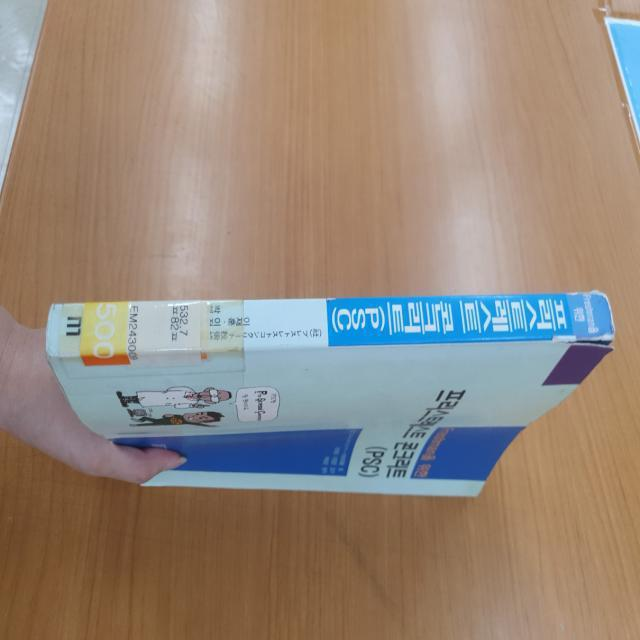Ripped: (552, 324, 622, 356), (565, 286, 610, 300)
Wornout: (42, 344, 67, 396), (599, 301, 617, 325), (322, 291, 341, 304)
